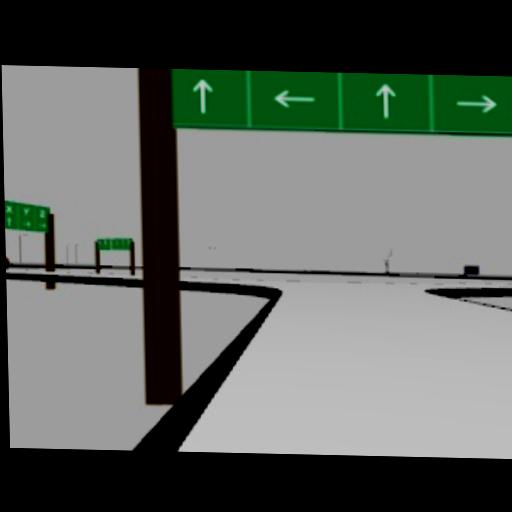Right: (453, 92, 495, 113)
